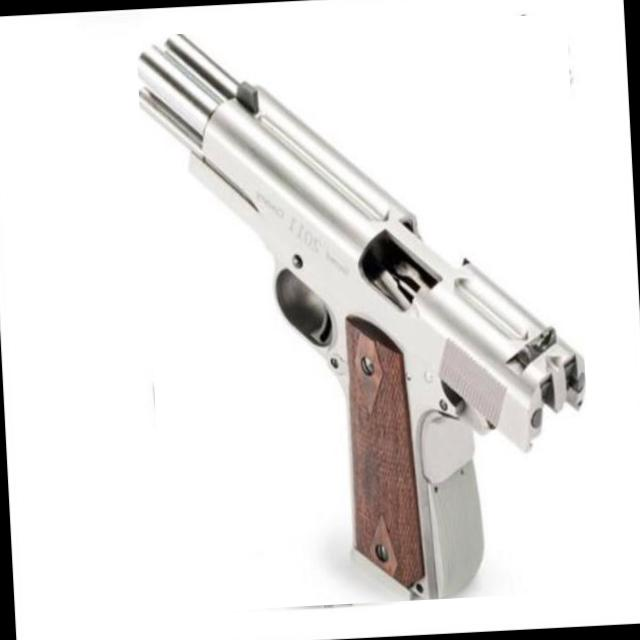Gun: (139, 34, 586, 600)
